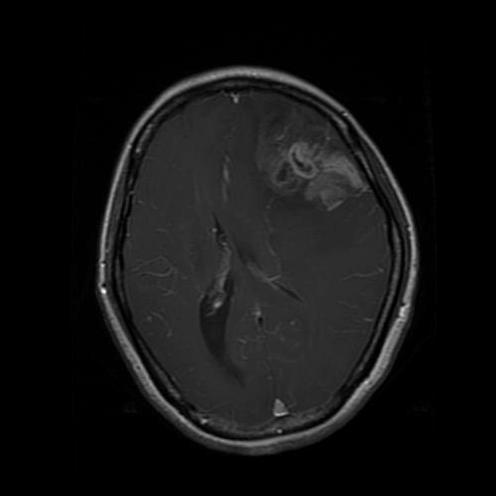Tumour-Glioma: (264, 130, 360, 198)
